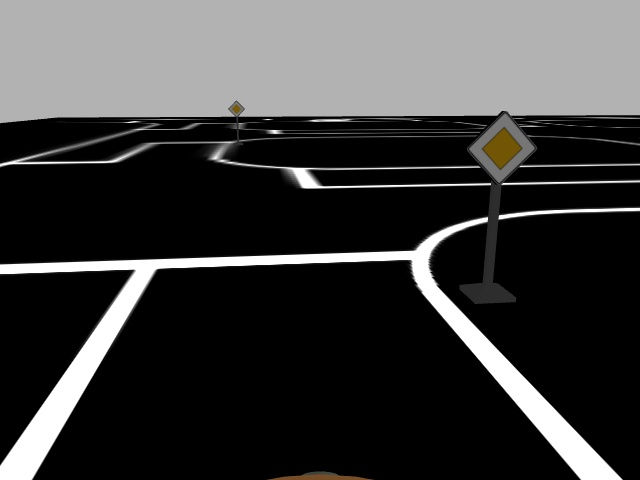priority: (466, 109, 536, 185), (227, 99, 245, 116)
